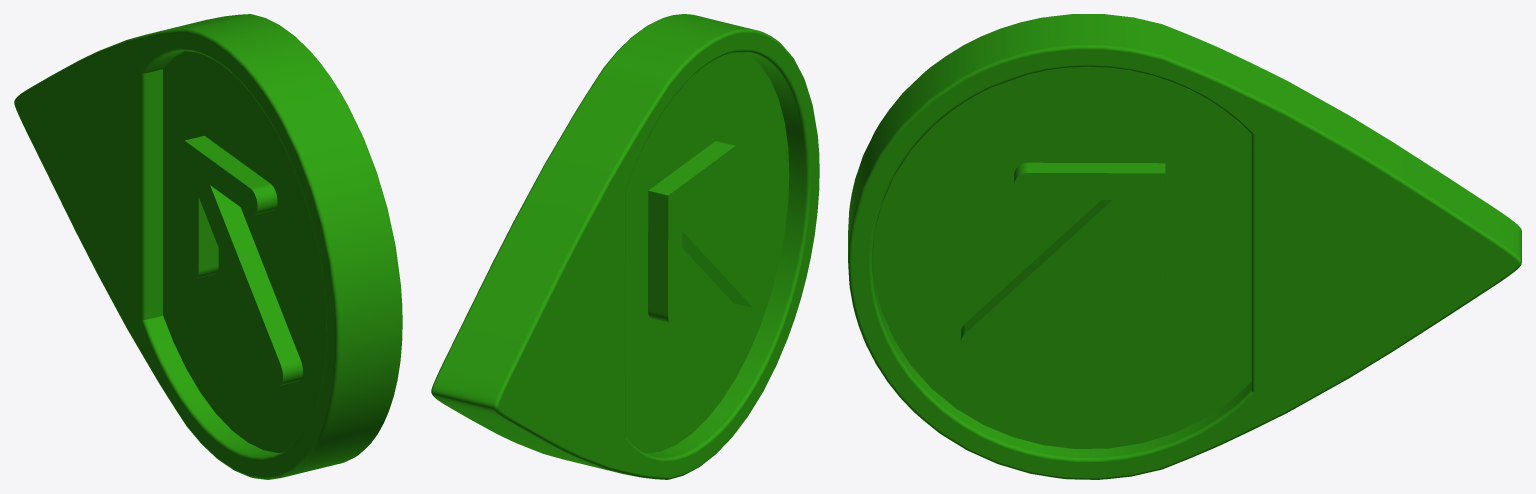
The model's file is ICONO 8.fbx.
The picture shows the model from 3 angles, left to right: view 1: azimuth 30°, elevation 25°; view 2: azimuth 150°, elevation 25°; view 3: azimuth 270°, elevation 25°; orthographic projection. The views are drawn at different scales.
Visible parts, largest first — view 1: Icono 5; view 2: Icono 5; view 3: Icono 5.
Part boxes in pixels (bbox=[...]): Icono 5: bbox=[14, 14, 402, 479]; Icono 5: bbox=[431, 14, 819, 479]; Icono 5: bbox=[848, 14, 1521, 479].
Bounding box in the file's own units: 112 × 675 × 947.
